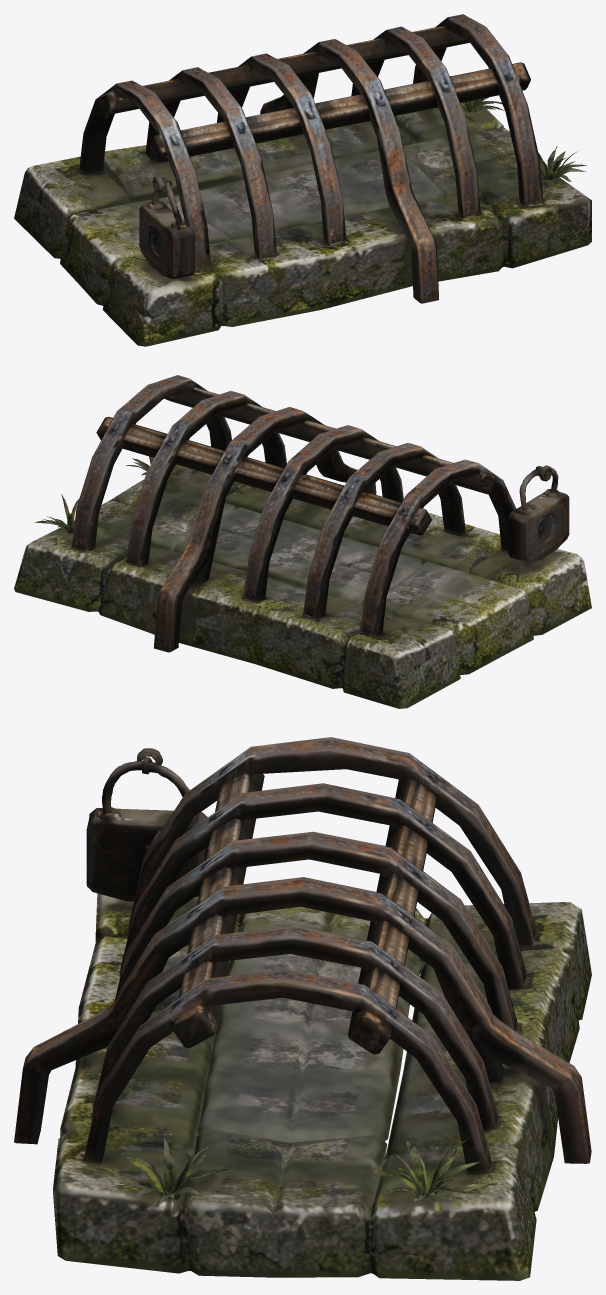
Rendered from act1_kit_v1_mortsafe.glb.
The picture shows the model from 3 angles, top to bottom: view 1: azimuth 30°, elevation 25°; view 2: azimuth 150°, elevation 25°; view 3: azimuth 270°, elevation 25°; orthographic projection. The views are drawn at different scales.
Visible parts, largest first — view 1: act1_kit_v1_mortsafe; view 2: act1_kit_v1_mortsafe; view 3: act1_kit_v1_mortsafe.
Part boxes in pixels (bbox=[...]): act1_kit_v1_mortsafe: bbox=[14, 14, 591, 346]; act1_kit_v1_mortsafe: bbox=[14, 375, 591, 708]; act1_kit_v1_mortsafe: bbox=[14, 737, 591, 1280].
Bounding box in the file's own units: 1 × 0.3632 × 0.711.
1 material, 1 textured.
